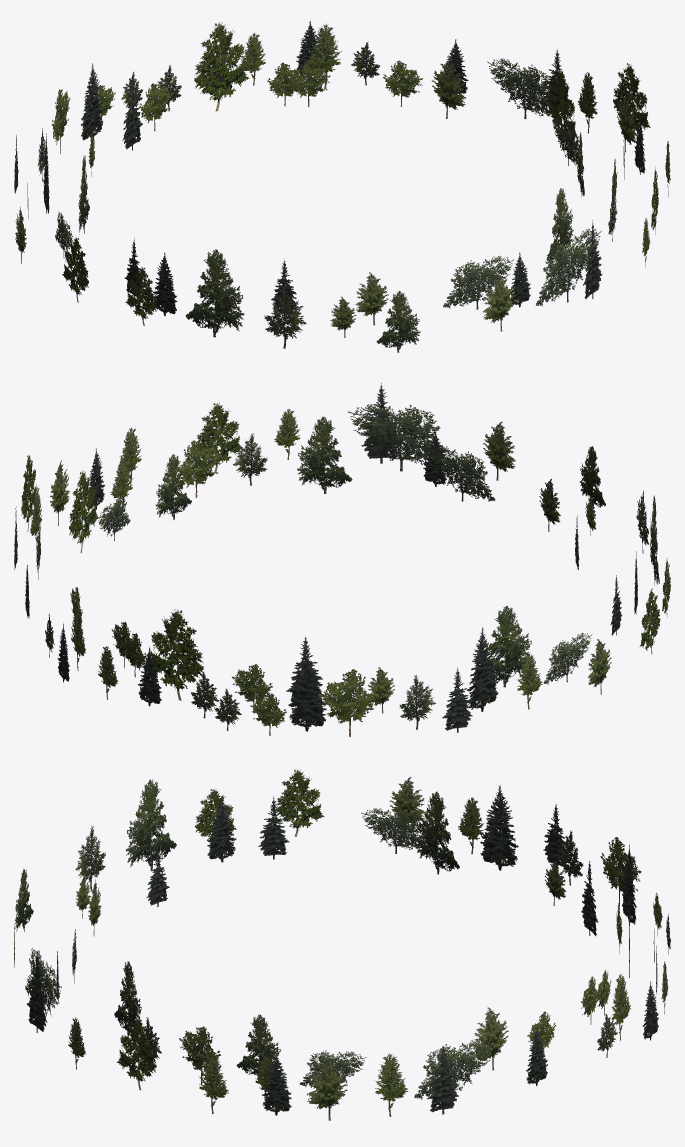
The model's file is level_forest_n3.FBX.
The picture shows the model from 3 angles, top to bottom: view 1: azimuth 30°, elevation 25°; view 2: azimuth 150°, elevation 25°; view 3: azimuth 270°, elevation 25°; orthographic projection. The views are drawn at different scales.
Parts seen in each view (by area): view 1: Tree_140, Tree_139, Tree_141, Tree_203, Tree_209, Tree_214, Tree_142, Tree_234, Tree_232, Tree_233, Tree_219, Tree_173 (+23 smaller); view 2: Tree_141, Tree_139, Tree_202, Tree_240, Tree_209, Tree_134, Tree_173, Tree_210, Tree_170, Tree_232, Tree_153, Tree_211 (+28 smaller); view 3: Tree_140, Tree_203, Tree_240, Tree_170, Tree_213, Tree_218, Tree_210, Tree_160, Tree_211, Tree_221, Tree_185, Tree_134 (+24 smaller).
Boxes of the visible parts, x1,y1,x2,y2 form: Tree_140: (185, 249, 244, 337); Tree_139: (194, 22, 249, 111); Tree_141: (536, 228, 601, 306); Tree_203: (487, 58, 559, 119); Tree_209: (443, 256, 514, 309); Tree_214: (376, 291, 420, 352); Tree_142: (264, 285, 306, 348); Tree_234: (613, 63, 650, 133); Tree_232: (548, 67, 577, 147); Tree_233: (432, 58, 465, 118); Tree_219: (125, 266, 156, 325); Tree_173: (81, 63, 103, 140); Tree_141: (348, 404, 450, 471); Tree_139: (150, 609, 203, 700); Tree_202: (297, 416, 352, 493); Tree_240: (481, 605, 531, 687); Tree_209: (427, 445, 495, 501); Tree_134: (318, 669, 377, 736); Tree_173: (288, 651, 326, 731); Tree_210: (196, 402, 241, 472); Tree_170: (467, 627, 498, 711); Tree_232: (69, 470, 98, 552); Tree_153: (177, 440, 221, 497); Tree_211: (155, 454, 191, 520); Tree_140: (126, 779, 176, 870); Tree_203: (414, 1039, 495, 1099); Tree_240: (415, 791, 459, 874); Tree_170: (480, 785, 518, 870); Tree_213: (276, 769, 324, 836); Tree_218: (361, 808, 424, 853); Tree_210: (116, 1018, 156, 1089); Tree_160: (307, 1056, 347, 1120); Tree_211: (236, 1014, 281, 1079); Tree_221: (300, 1050, 366, 1087); Tree_185: (207, 796, 236, 862); Tree_134: (600, 837, 641, 906).
Size of the model in its own units: 149 by 21.23 by 138.
